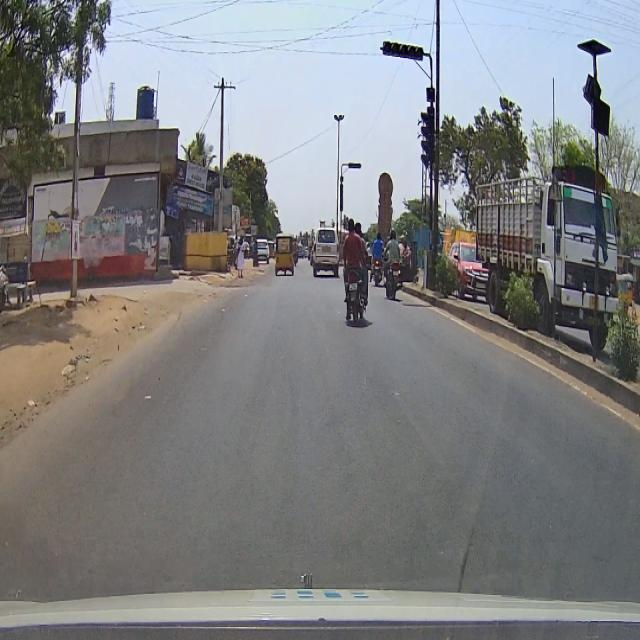motorcycle ahead at: (342, 263, 370, 329)
